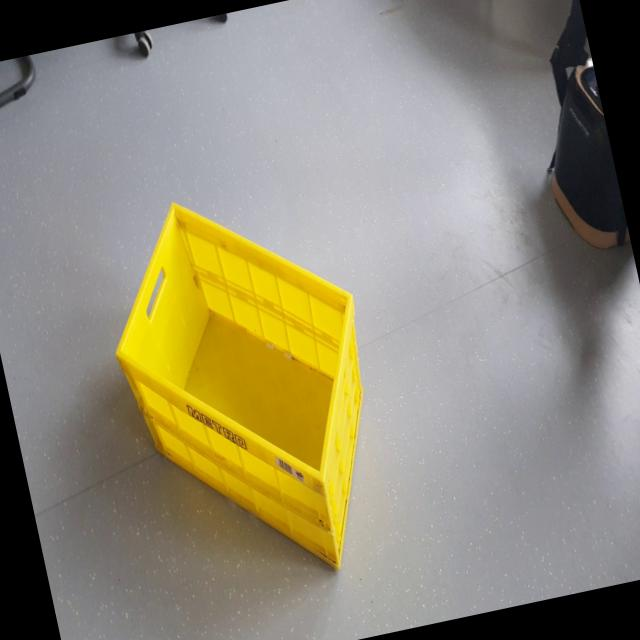box: (77, 153, 416, 622)
